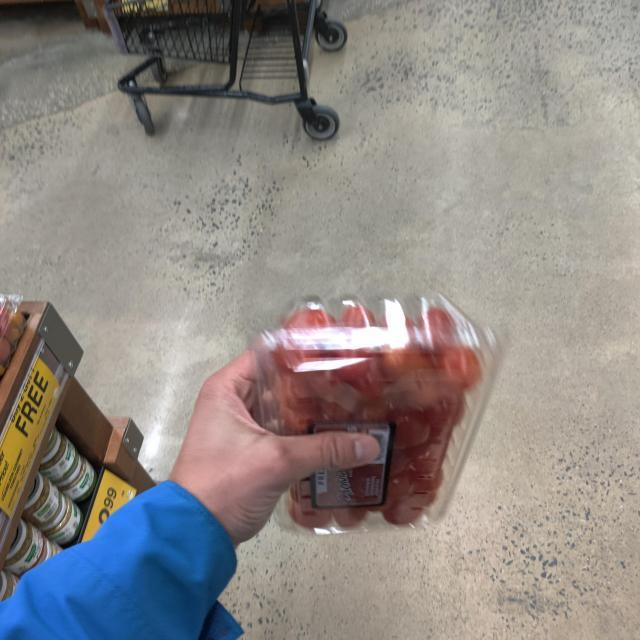Tomatoes: (246, 286, 514, 554)
